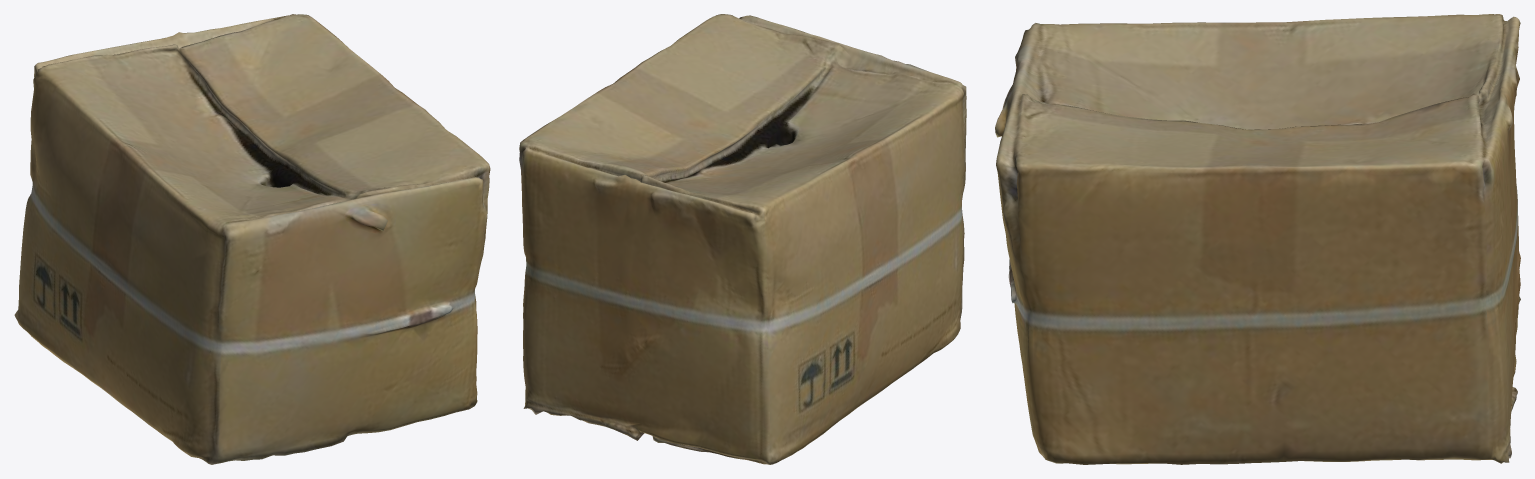
Rendered from cardboard_box_01.glb.
3 views of the same model, side by side, from view 1: azimuth 30°, elevation 25°; view 2: azimuth 150°, elevation 25°; view 3: azimuth 270°, elevation 25° (orthographic). The views are drawn at different scales.
Visible parts, largest first — view 1: cardboard_box_01; view 2: cardboard_box_01; view 3: cardboard_box_01.
Part boxes in pixels (bbox=[...]): cardboard_box_01: bbox=[14, 14, 490, 464]; cardboard_box_01: bbox=[519, 14, 966, 464]; cardboard_box_01: bbox=[995, 14, 1520, 464].
Size of the model in its own units: 0.387 by 0.3418 by 0.5159.
1 material, 1 textured.
